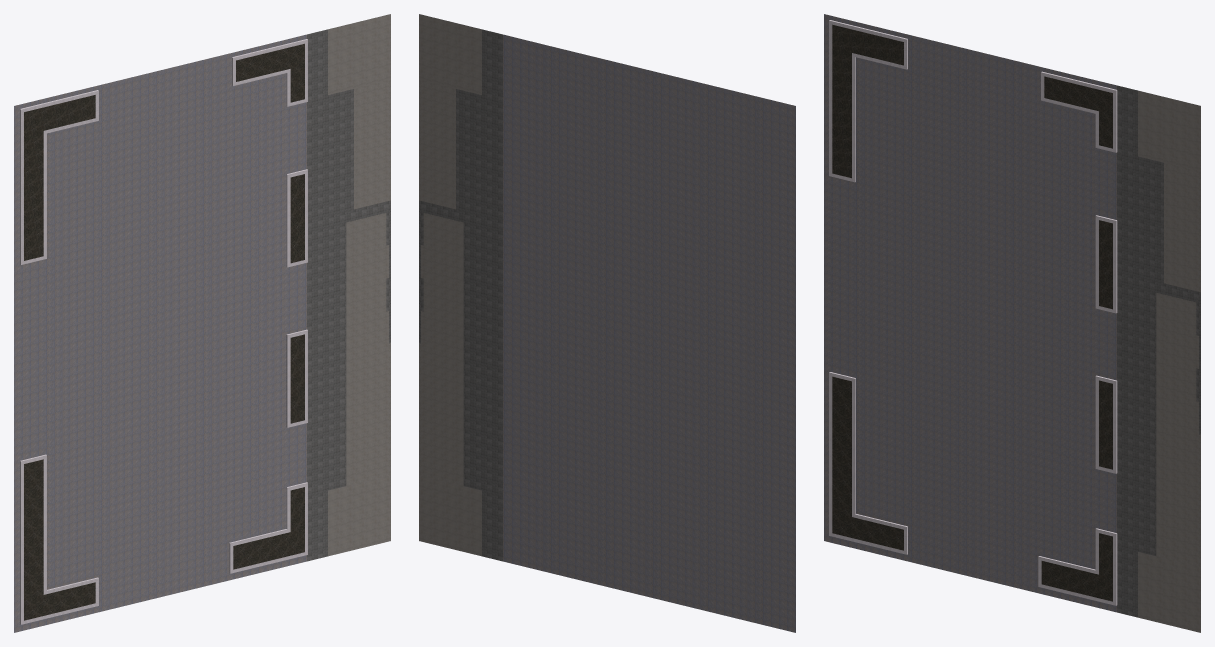
Rendered from cityhallground.obj.
3 views of the same model, side by side, from view 1: azimuth 30°, elevation 25°; view 2: azimuth 150°, elevation 25°; view 3: azimuth 330°, elevation 25° (orthographic).
Visible parts, largest first — view 1: cityhallblok_LAn; view 2: cityhallblok_LAn; view 3: cityhallblok_LAn.
Boxes of the visible parts, left/top/right/bottom form: cityhallblok_LAn: left=14, top=14, right=390, bottom=632; cityhallblok_LAn: left=419, top=14, right=795, bottom=632; cityhallblok_LAn: left=824, top=14, right=1200, bottom=632.
Size of the model in its own units: 120 by 160 by 0.5.
5 materials, 5 textured.
